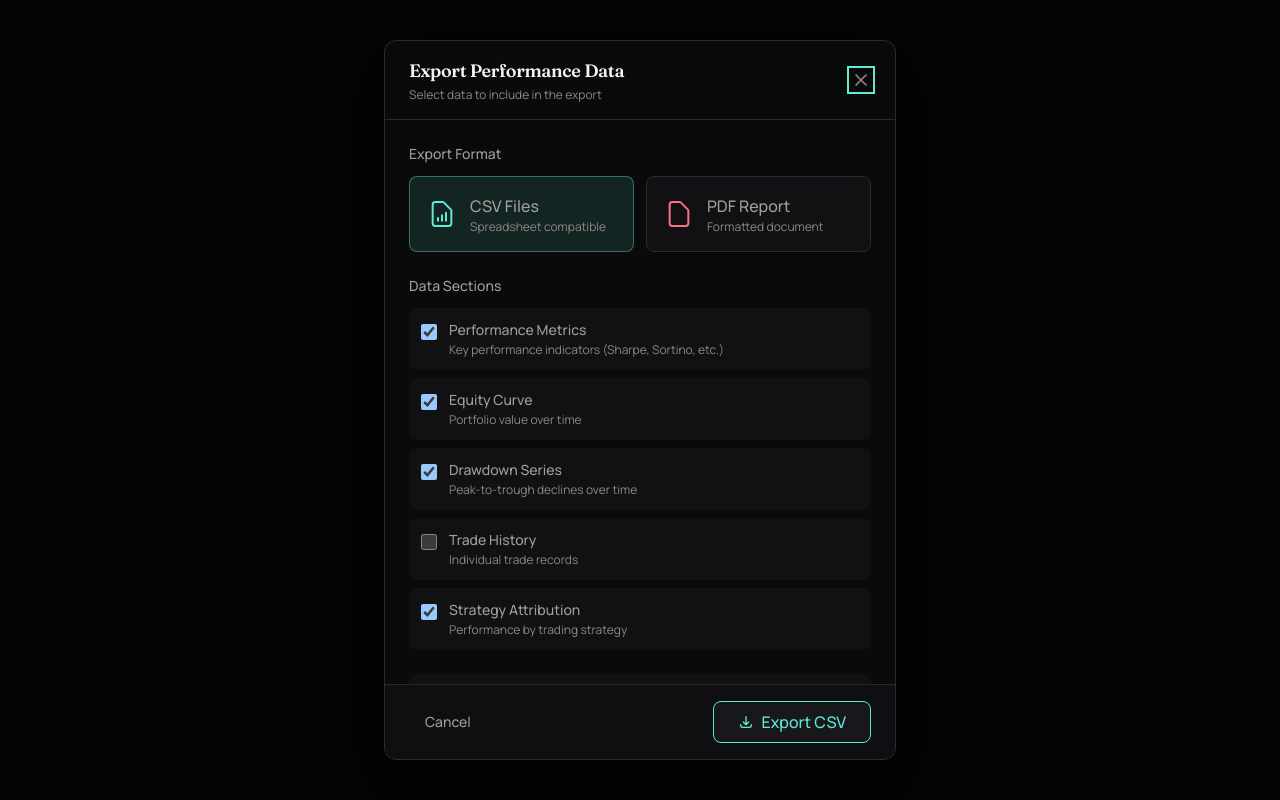
Test: ExportPanel Component › shows export button with correct format
Expected: the button "Export CSV" is shown, [713,701,871,743]
# Switch to PDF
Step 1. Click the text "PDF Report" → coordinates (749, 206), box [707,195,790,217]
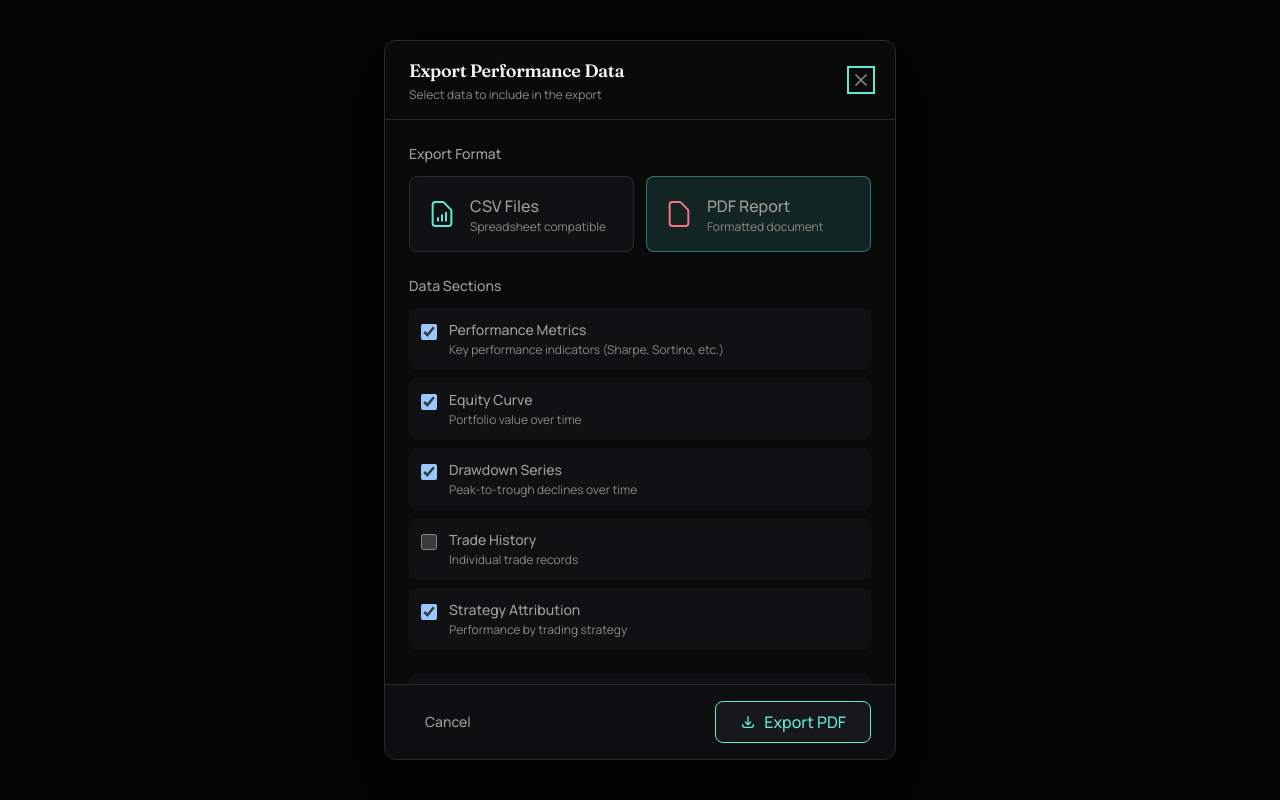
Expected: the button "Export PDF" is shown, [715,701,871,743]
